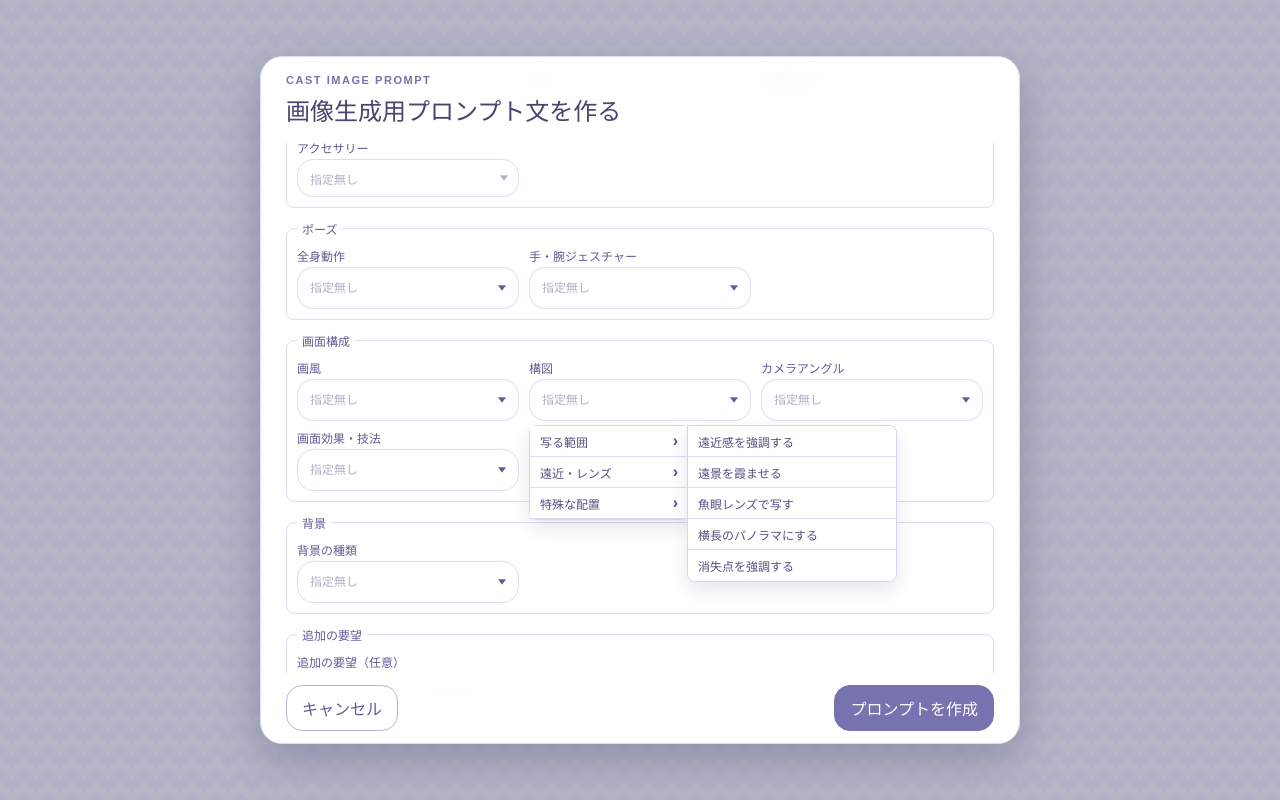
image prompt multiple selection › shows numeric ages and occupation submenus without a makeup field
The image size is (1280, 800).
Earlier steps of the test are not shown.
Later steps or results of the test are not shown.
(page scrolled)
Click the option "魚眼レンズで写す".
click(792, 504)  # box [688, 488, 896, 519]
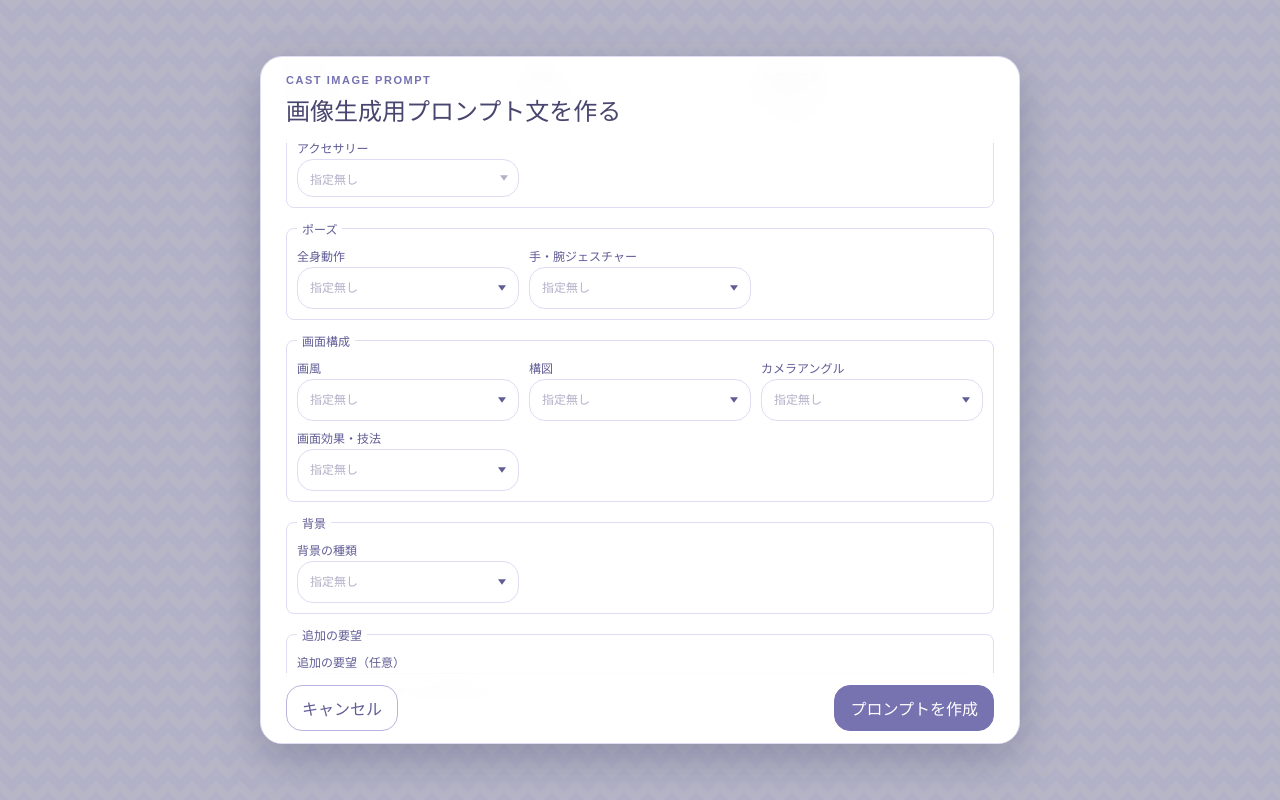
Click the button named "カメラアングルの候補を表示".
click(966, 400)  # box [949, 383, 983, 417]
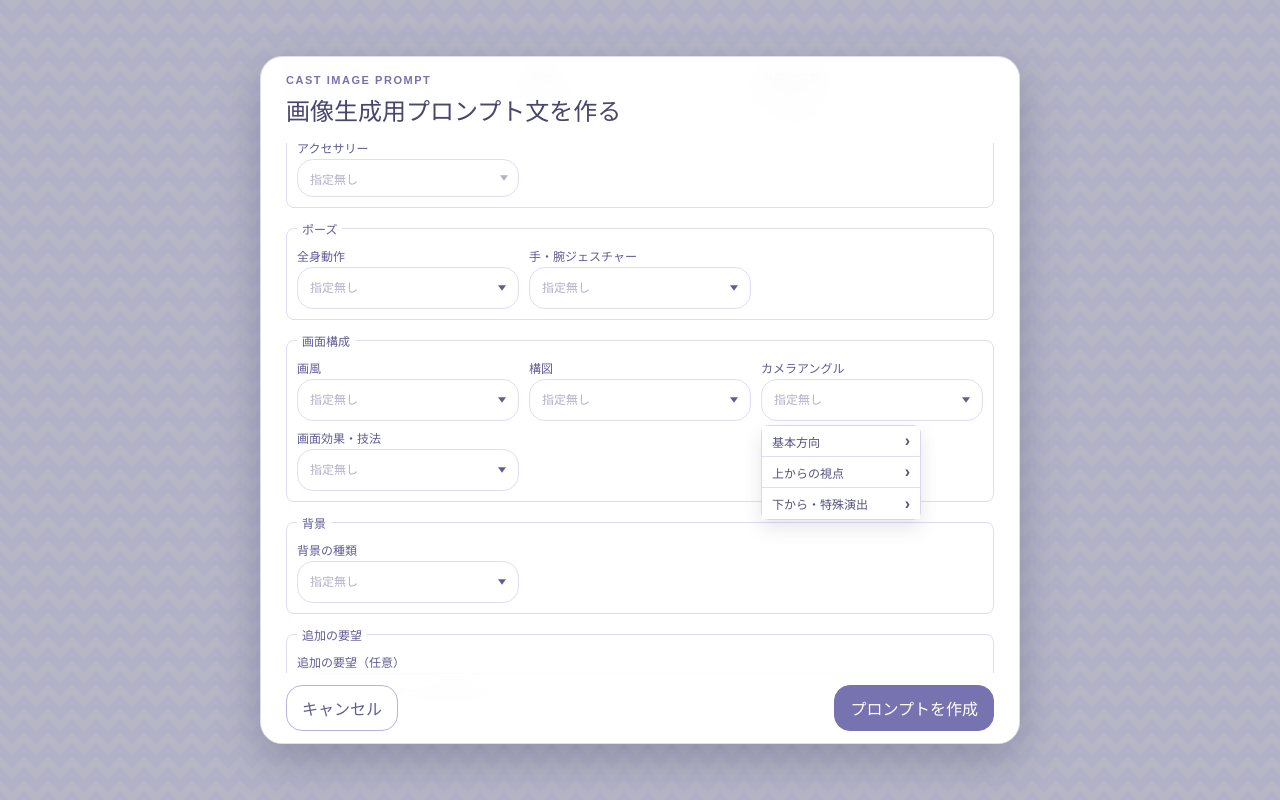
Click the button "上からの視点 ›".
click(841, 473)  # box [762, 457, 920, 488]
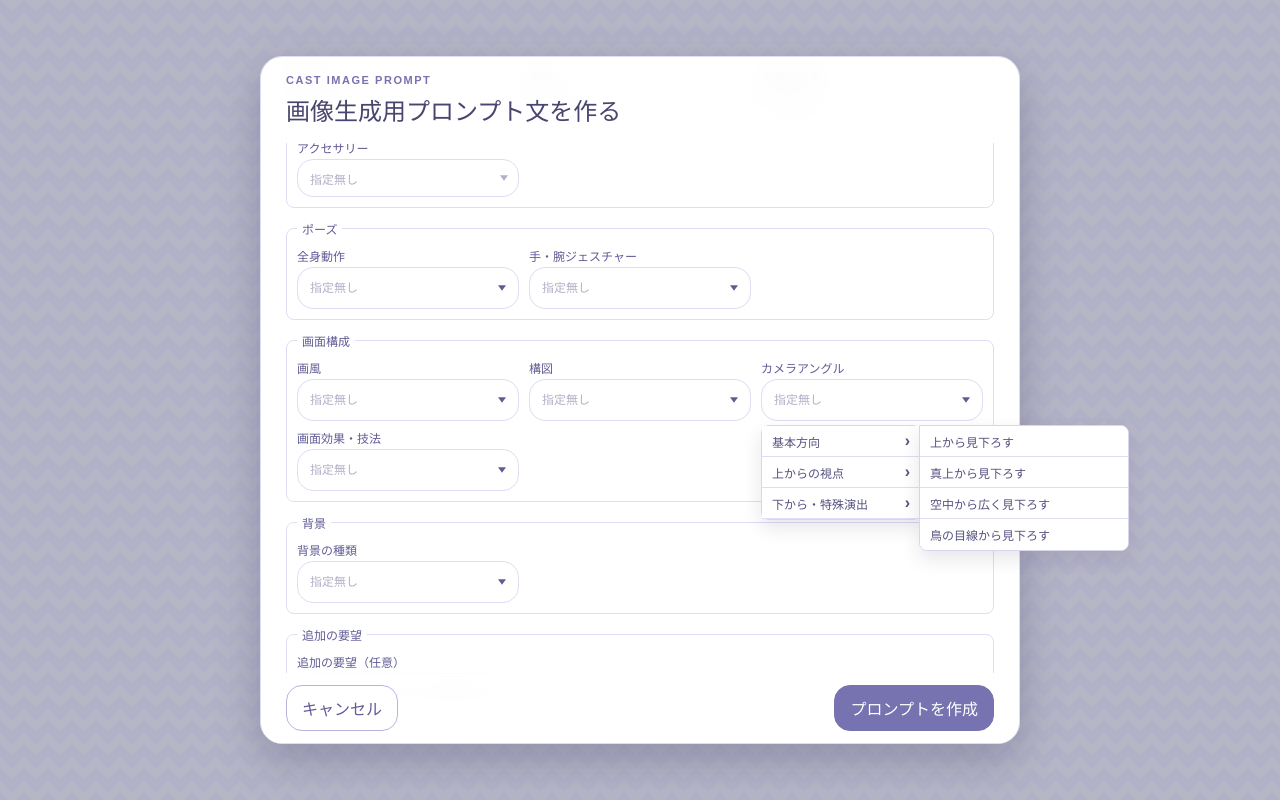
Click the option "真上から見下ろす".
click(1024, 473)  # box [920, 457, 1128, 488]
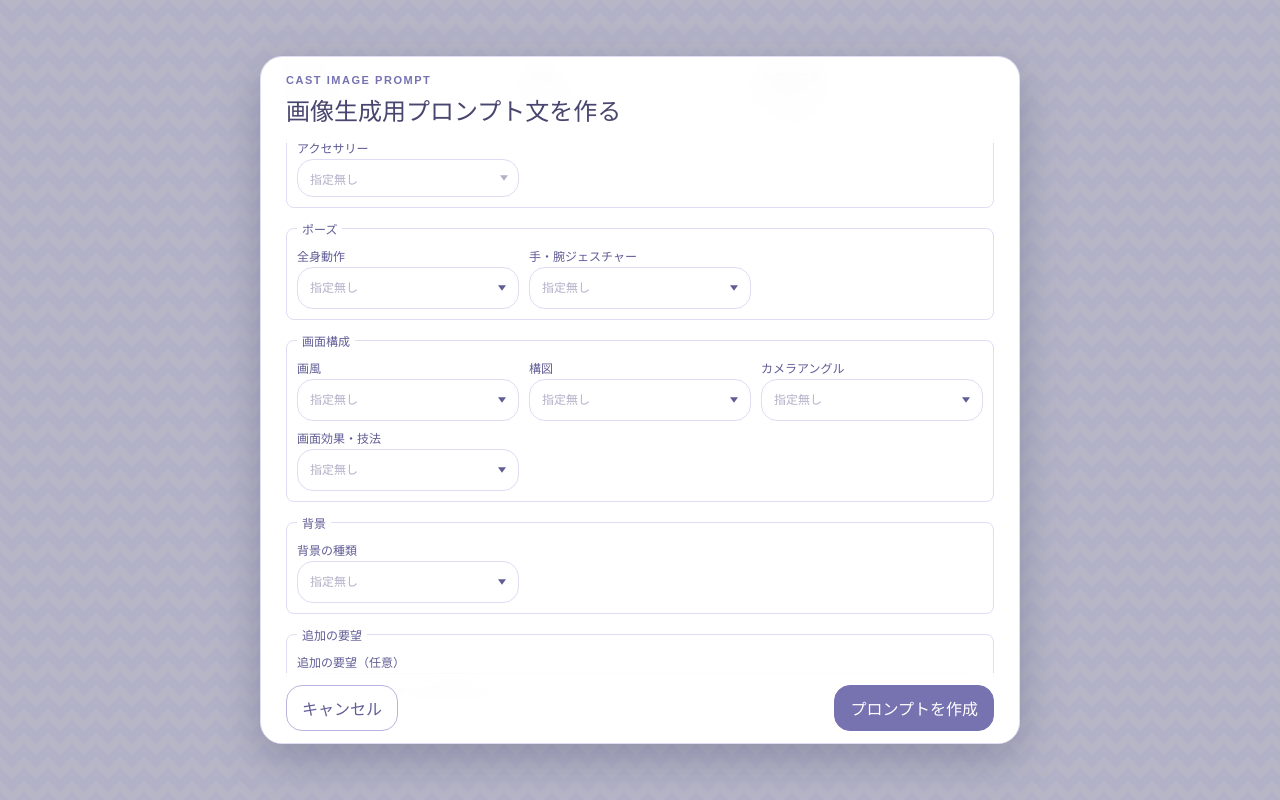
Click the button named "画面効果・技法の候補を表示".
click(502, 470)  # box [485, 453, 519, 487]
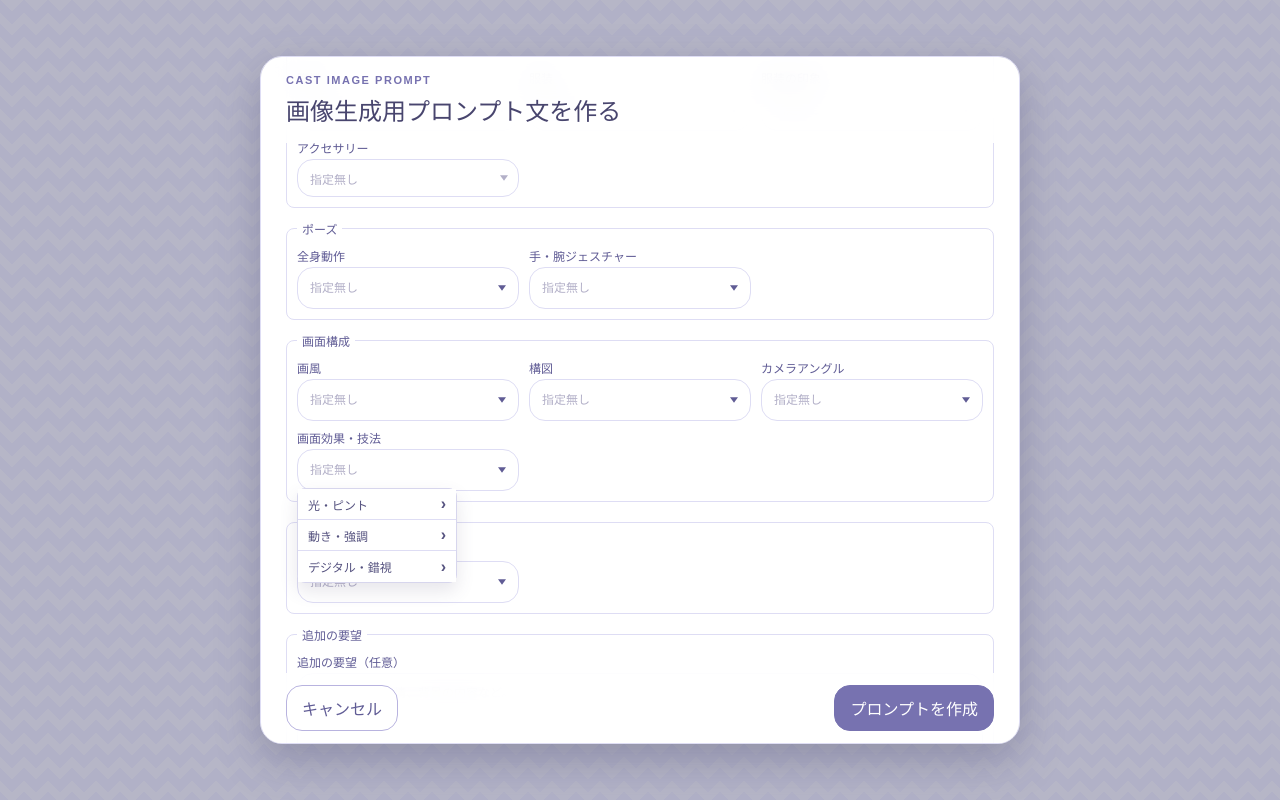
Click the button "動き・強調 ›".
click(377, 536)  # box [298, 520, 456, 551]
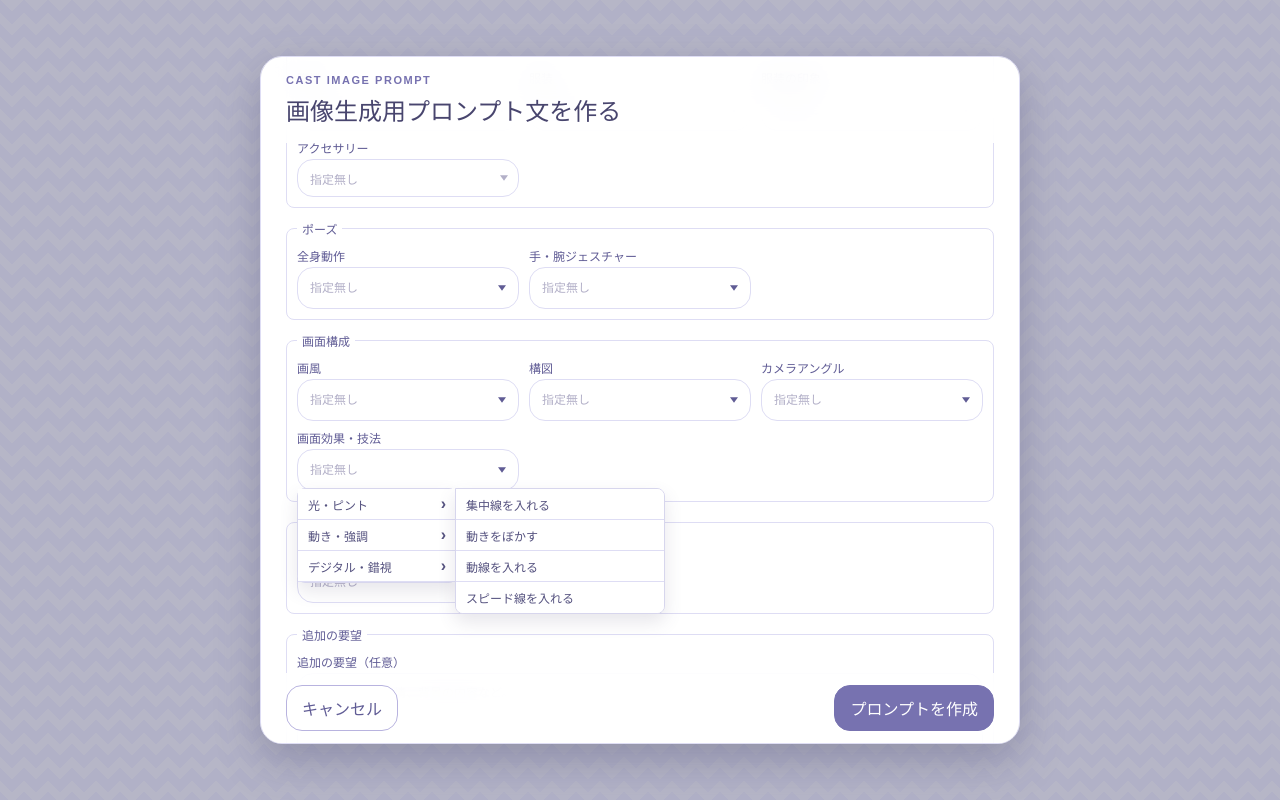
Expected: the option "動きをぼかす" has attribute title="移動方向に像を流してぼかし、素早い動きや速度感を表現します。", [456, 520, 664, 551]
